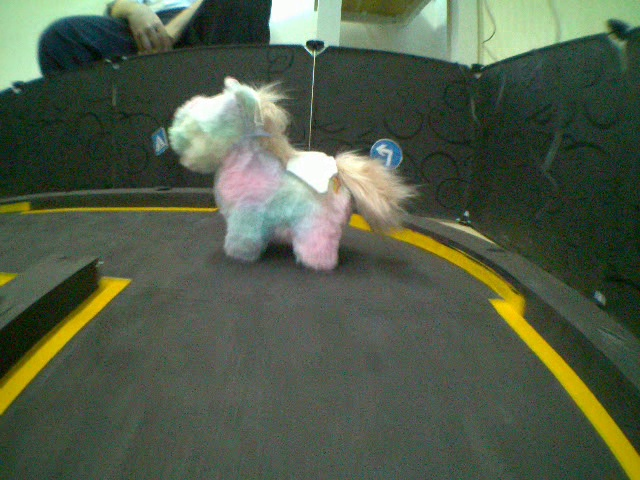ball: (167, 77, 415, 272)
